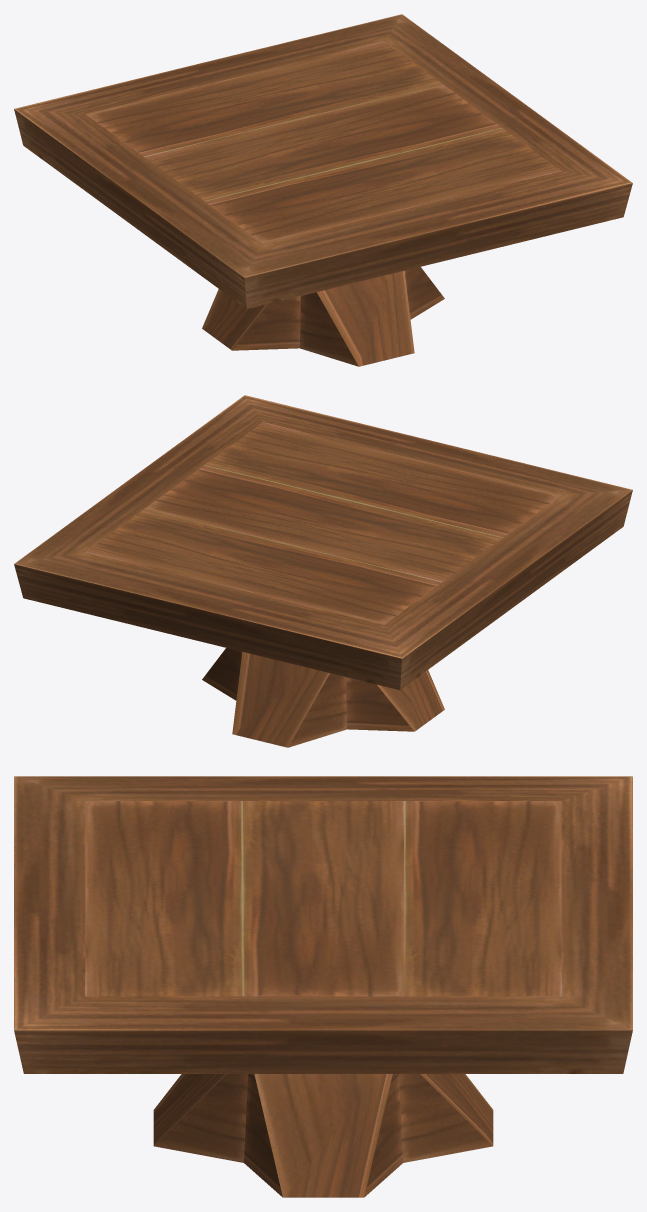
Rendered from dwarventablesimple03.obj.
3 views of the same model, one above another, from view 1: azimuth 30°, elevation 25°; view 2: azimuth 150°, elevation 25°; view 3: azimuth 270°, elevation 25° (orthographic). The views are drawn at different scales.
Visible parts, largest first — view 1: dwarventablesimple03; view 2: dwarventablesimple03; view 3: dwarventablesimple03.
Boxes of the visible parts, x1,y1,x2,y2 form: dwarventablesimple03: (14, 14, 632, 366); dwarventablesimple03: (14, 395, 632, 747); dwarventablesimple03: (14, 776, 632, 1197).
Size of the model in its own units: 2.16 by 0.9105 by 2.23.
1 material, 1 textured.
